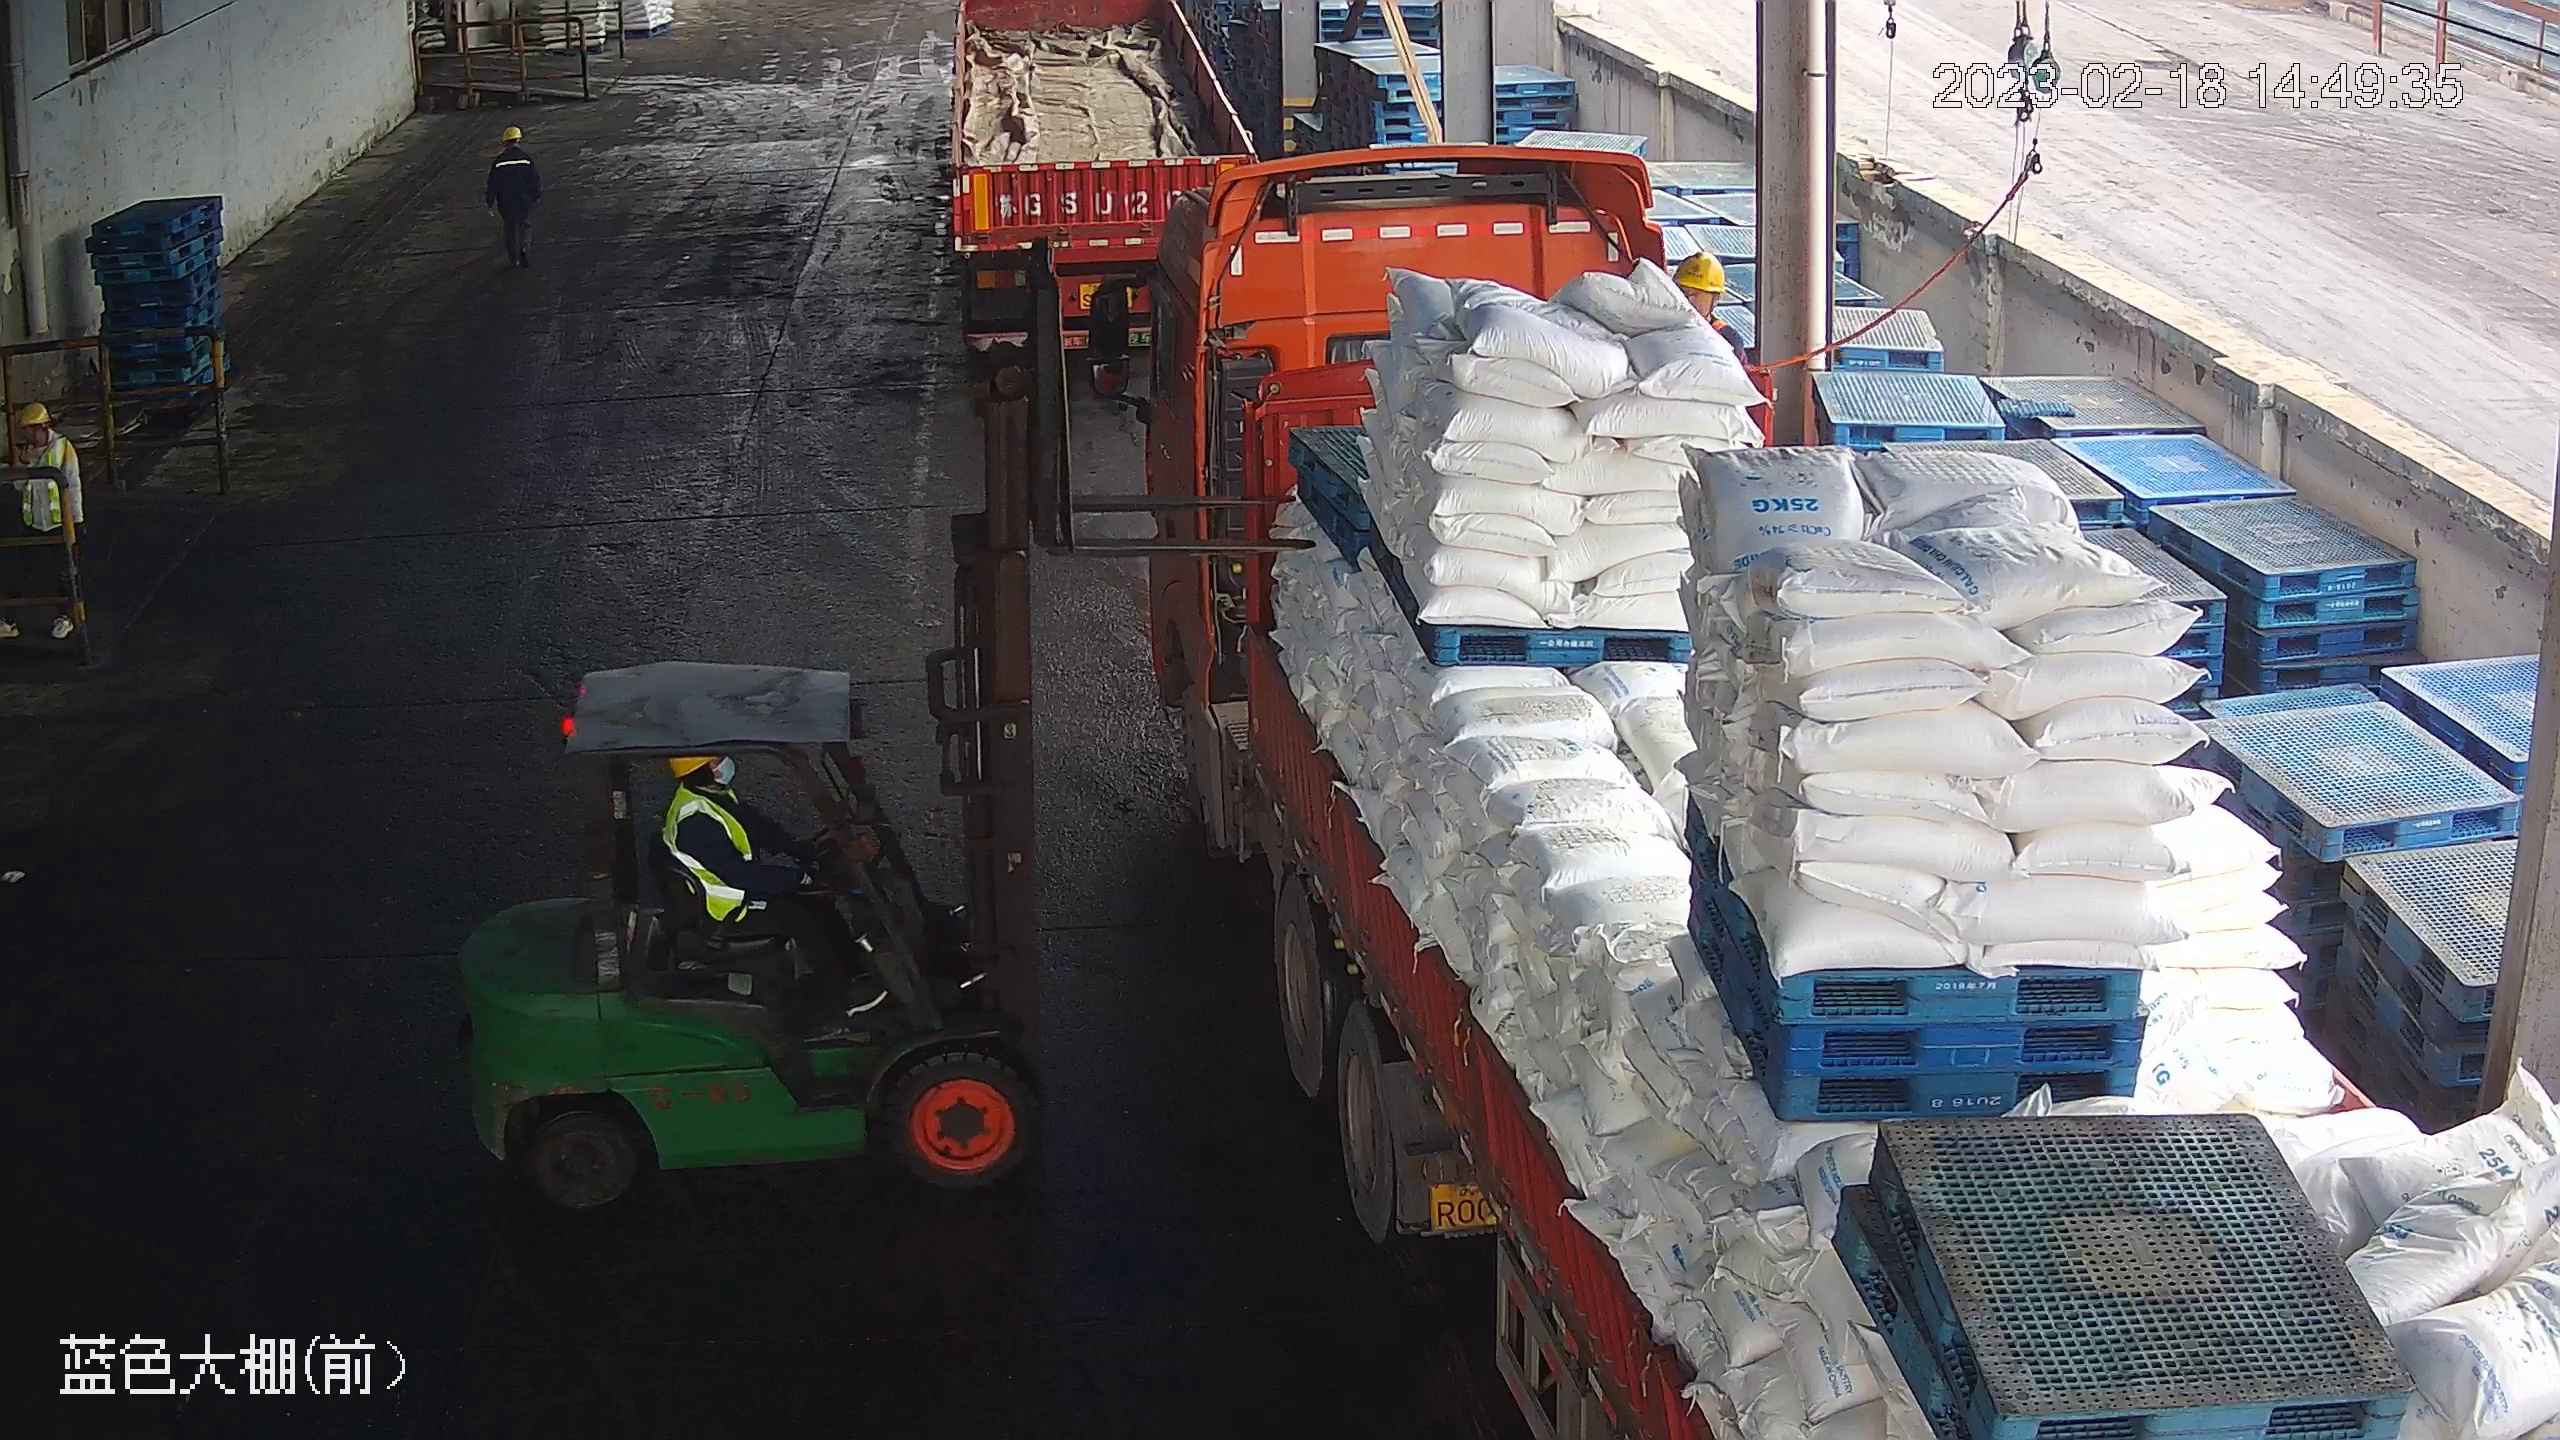head: (662, 751, 754, 848), (489, 124, 535, 171)
helmet: (1671, 248, 1729, 291), (22, 401, 50, 424), (498, 124, 524, 144)
people: (661, 750, 880, 1005), (484, 125, 541, 272)
truck: (999, 148, 2554, 1440)
